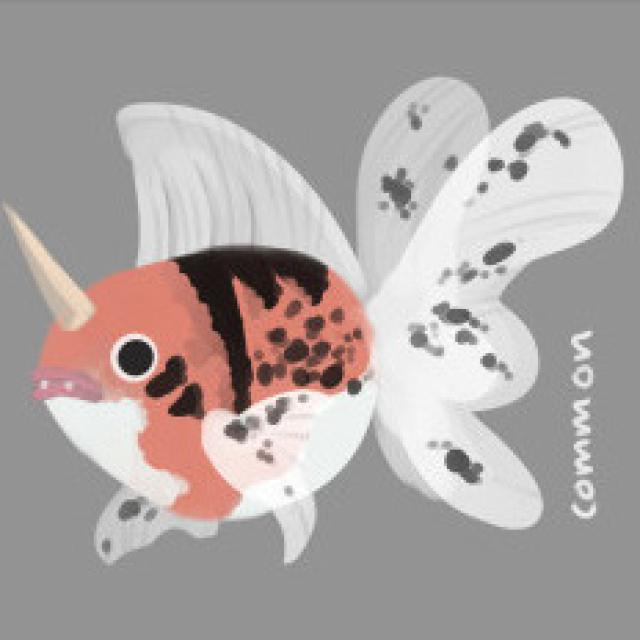Seaking: (29, 99, 505, 520)
